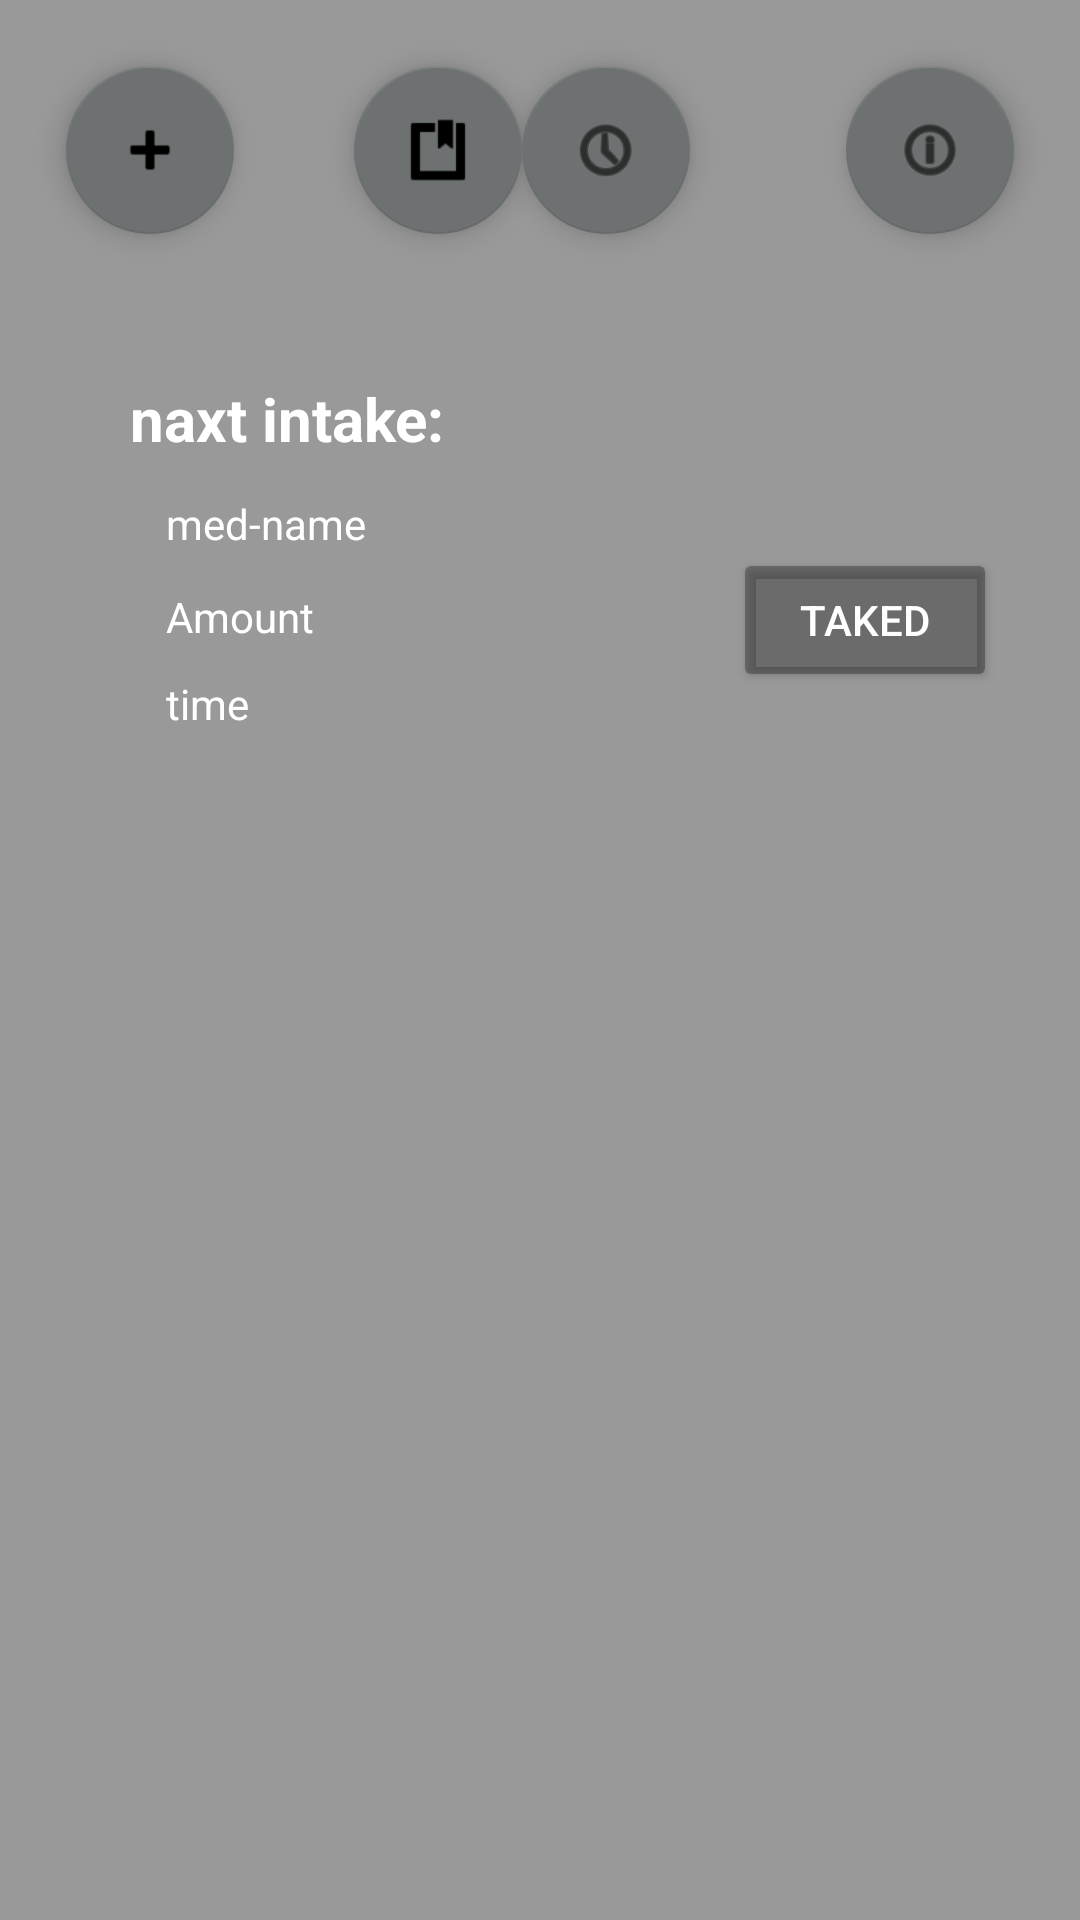

Icons on this 1080px×1920px Android screen, each with the point to tap as [x,y]:
Add Medicament: [150,151]
show next med to take: [606,151]
